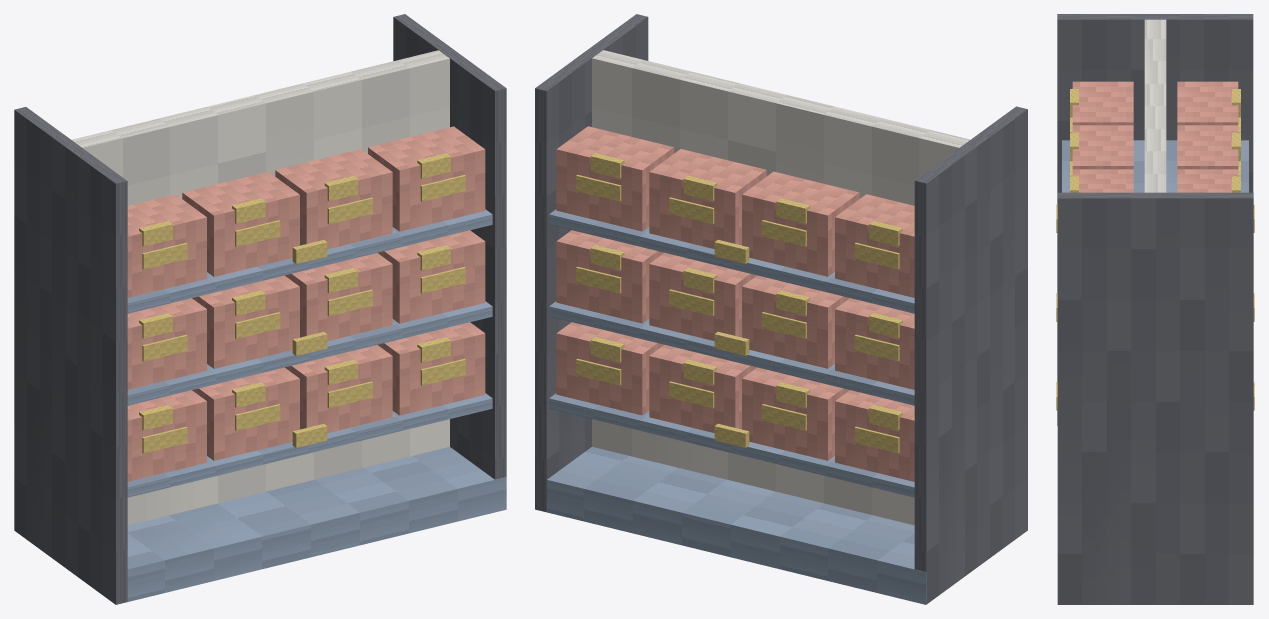
File: gondola-snacks.glb
3 renders of one model, left to right at view 1: azimuth 30°, elevation 25°; view 2: azimuth 150°, elevation 25°; view 3: azimuth 270°, elevation 25°, orthographic. The views are drawn at different scales.
Visible parts, largest first — view 1: gondola-run-snacks; view 2: gondola-run-snacks; view 3: gondola-run-snacks.
Boxes of the visible parts, x1=… form: gondola-run-snacks: x1=14, y1=14, x2=506, y2=604; gondola-run-snacks: x1=535, y1=14, x2=1027, y2=604; gondola-run-snacks: x1=1056, y1=14, x2=1254, y2=604.
Bounding box in the file's own units: 2 × 2.06 × 0.9099.
5 materials, 5 textured.
